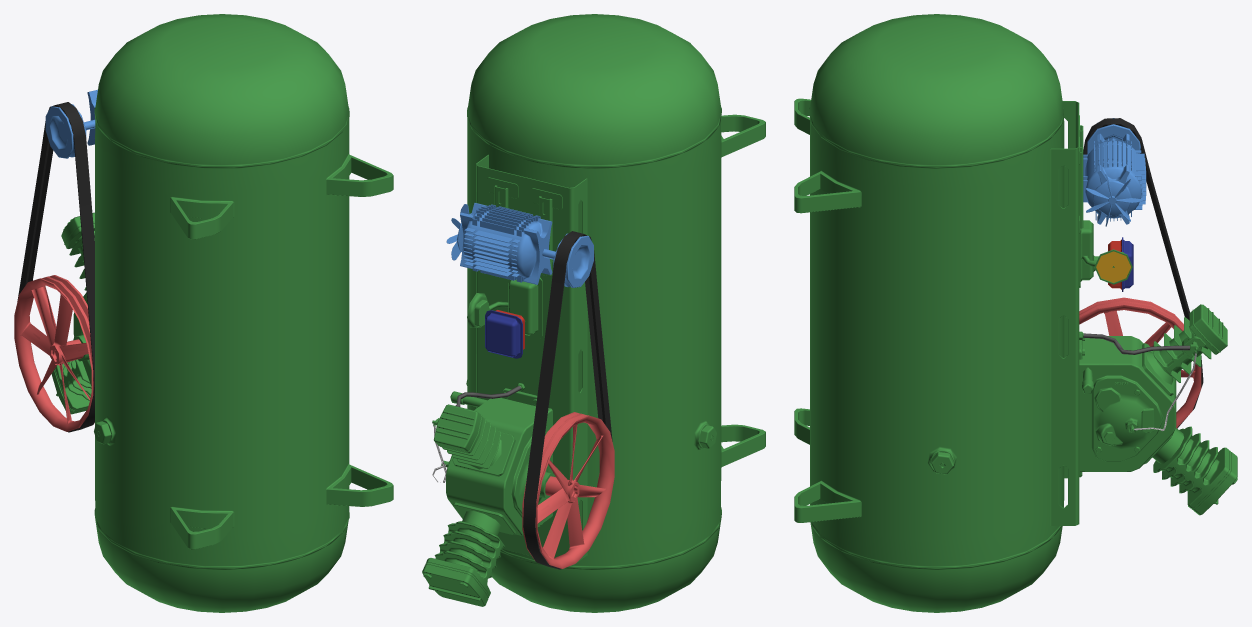
Rendered from Air_Compressor 1.fbx.
The picture shows the model from 3 angles, left to right: view 1: azimuth 30°, elevation 25°; view 2: azimuth 150°, elevation 25°; view 3: azimuth 270°, elevation 25°; orthographic projection.
Parts seen in each view (by area): view 1: Component1:1, Component2:1, Air Compressor v84; view 2: Component1:1, Air Compressor v84, Component2:1; view 3: Component1:1, Air Compressor v84, Component2:1.
Boxes of the visible parts, x1,y1,x2,y2 form: Component1:1: [14, 14, 393, 612]; Component2:1: [17, 102, 94, 432]; Air Compressor v84: [45, 89, 97, 158]; Component1:1: [422, 14, 765, 612]; Air Compressor v84: [432, 203, 593, 482]; Component2:1: [523, 231, 612, 569]; Component1:1: [794, 14, 1237, 612]; Air Compressor v84: [1083, 118, 1197, 430]; Component2:1: [1083, 118, 1203, 428].
Bounding box in the file's own units: 48.8 × 105 × 77.77.
